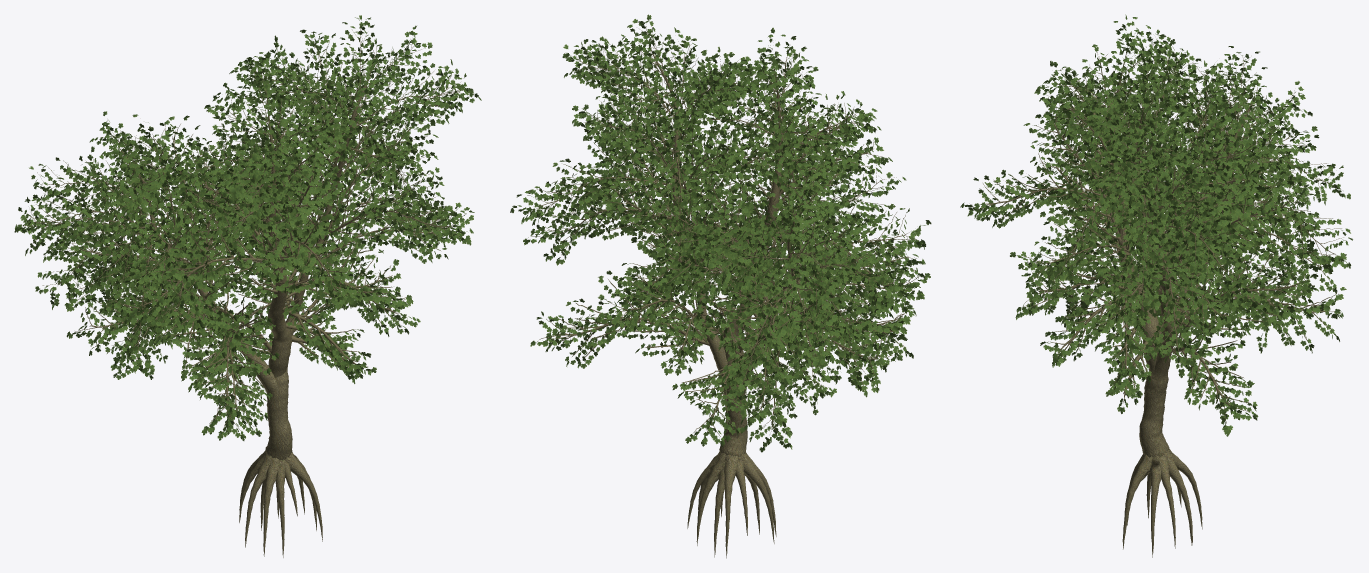
File: MESH_EU01_AcerCampestre_A_LOD0.fbx
3 views of the same model, side by side, from view 1: azimuth 30°, elevation 25°; view 2: azimuth 150°, elevation 25°; view 3: azimuth 270°, elevation 25° (orthographic).
Visible parts, largest first — view 1: MI_LOD0_001, MI_LOD0; view 2: MI_LOD0_001, MI_LOD0; view 3: MI_LOD0_001, MI_LOD0.
Part boxes in pixels (left/top/right/bottom): MI_LOD0_001: left=14, top=15, right=481, bottom=440; MI_LOD0: left=21, top=20, right=469, bottom=557; MI_LOD0_001: left=510, top=14, right=931, bottom=452; MI_LOD0: left=525, top=26, right=919, bottom=558; MI_LOD0_001: left=960, top=14, right=1352, bottom=436; MI_LOD0: left=971, top=33, right=1344, bottom=557.
Bounding box in the file's own units: 1180 × 1424 × 980.
